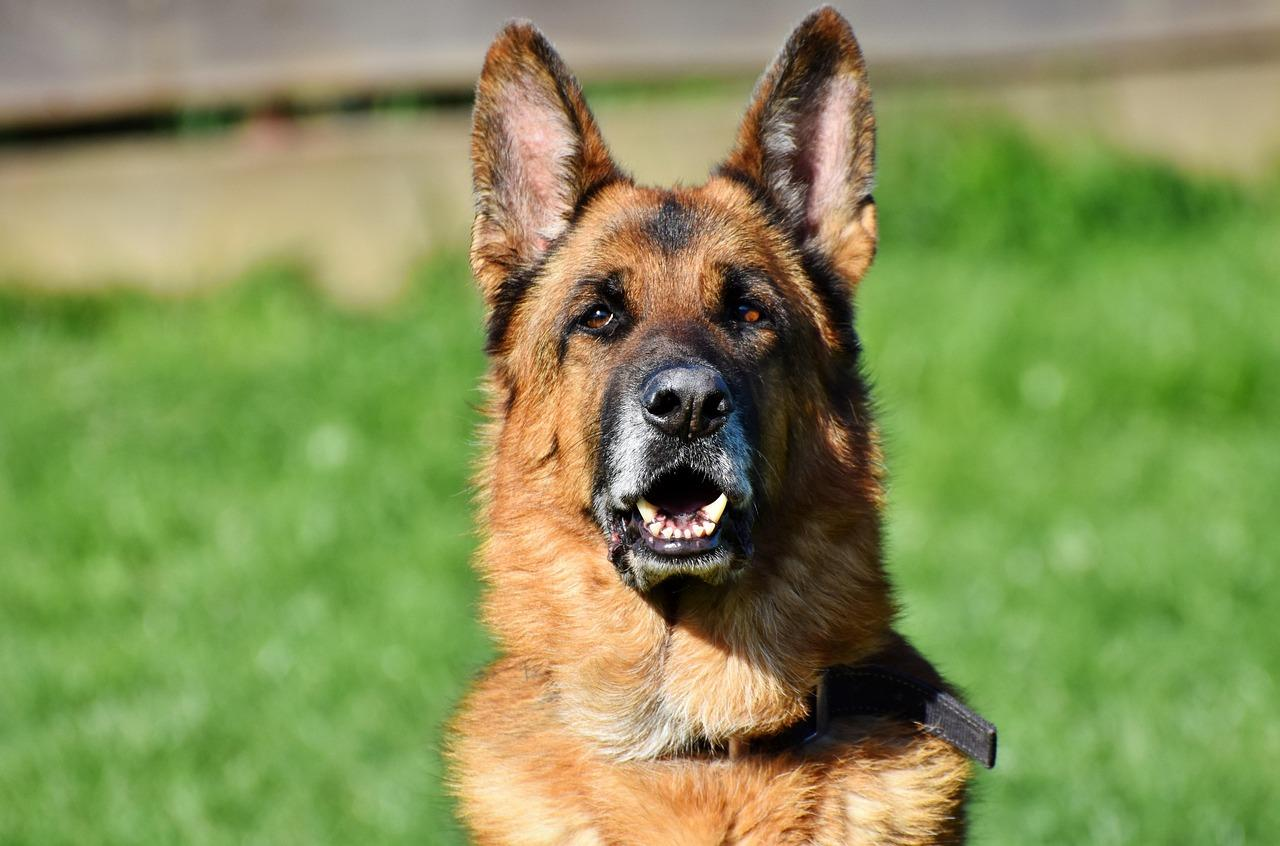german_shepherd: (457, 35, 892, 625)
